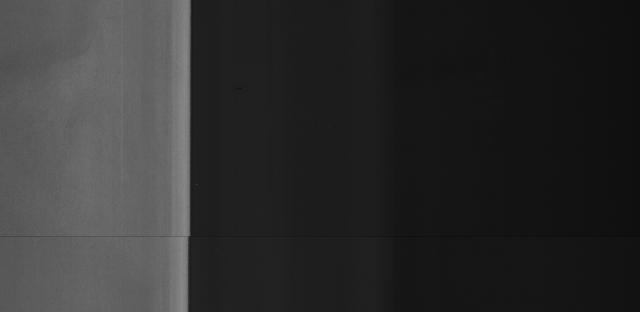welding_line: (2, 226, 196, 245)
